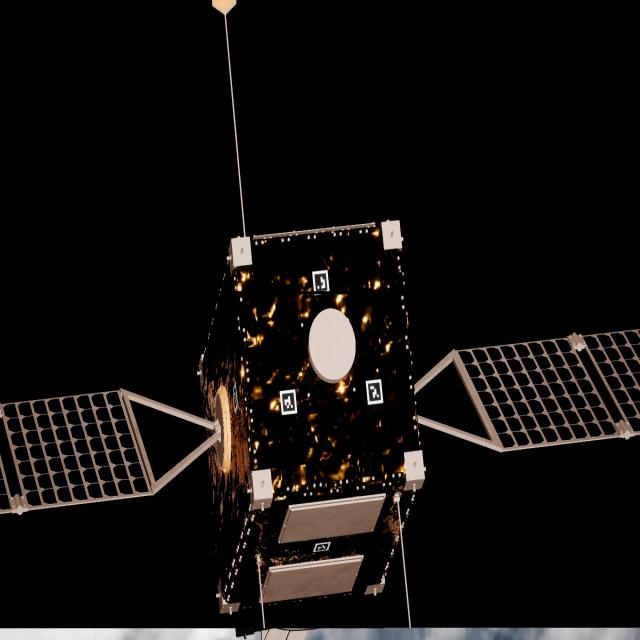satellite: (0, 221, 640, 636)
